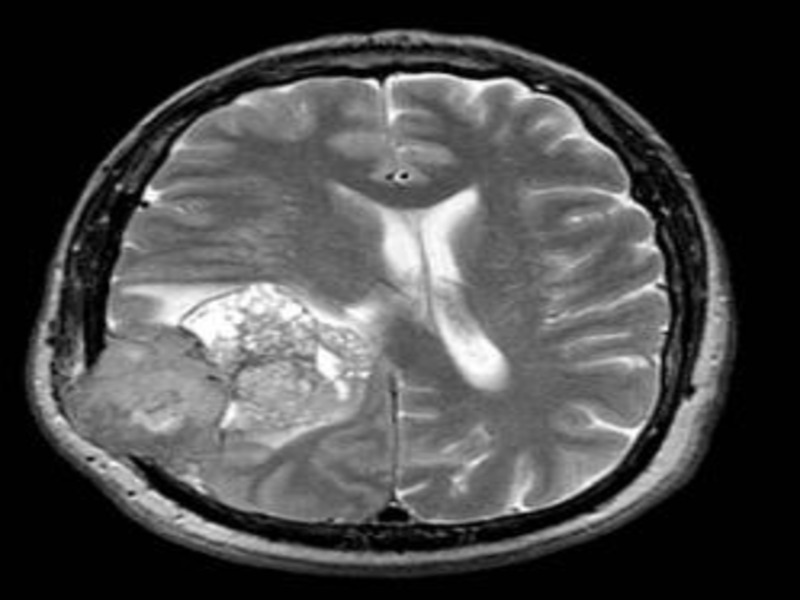tumor: (352, 185, 522, 412)
